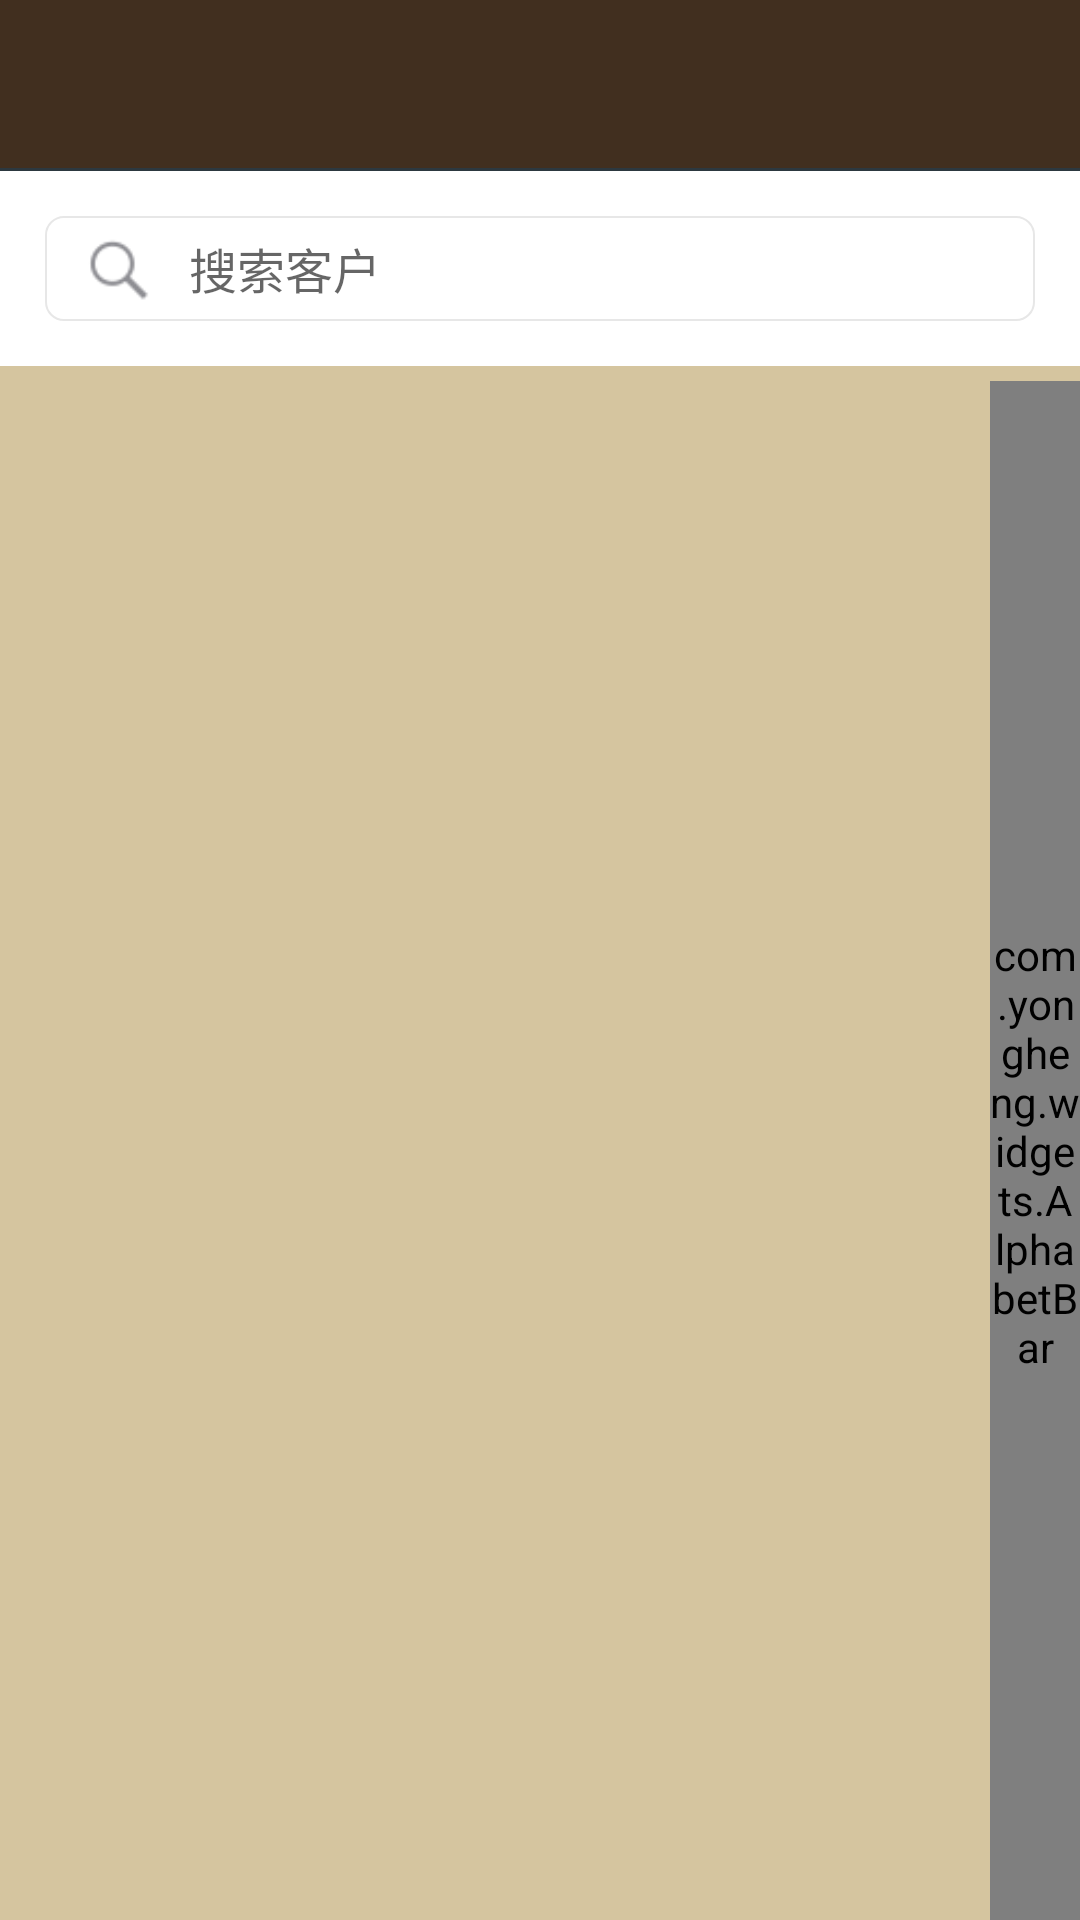

Named icons in this screenshot (1080 x 1920) and their centers, [x,y]:
search: [119,270]
